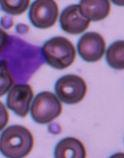L: (0, 31, 46, 86)
